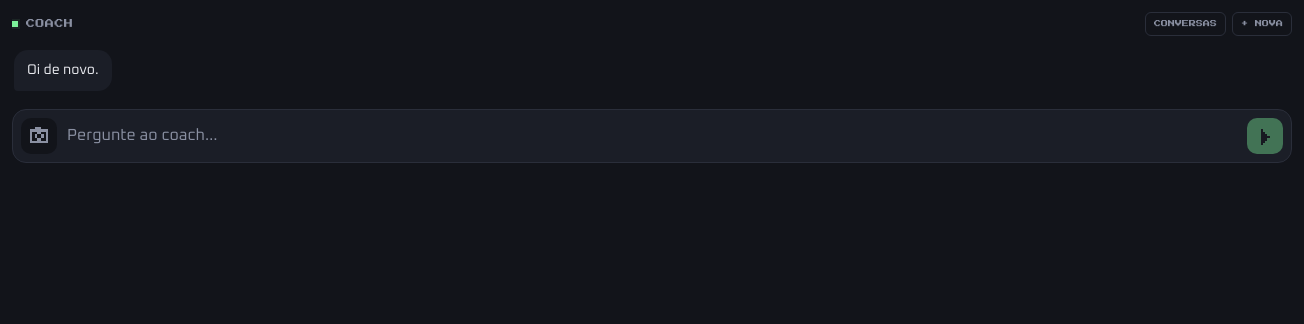
Test case: Coach › nova conversa limpa o thread
This screenshot has width=1304, height=324.
Check: the text "Oi de novo." is shown, box x1=27 y1=60 x2=98 y2=81
Click the button with aria-label "nova conversa" at point(1262, 24), box x1=1232 y1=12 x2=1292 y2=36
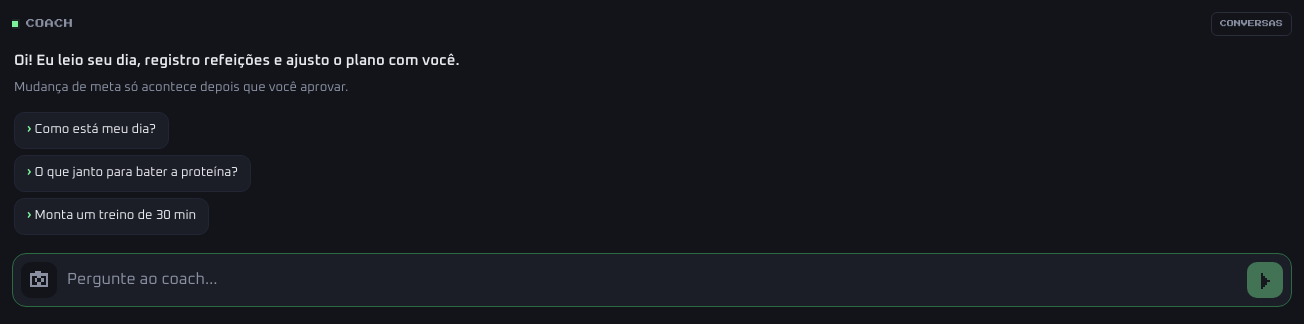
Check: the text "Oi de novo." is gone
